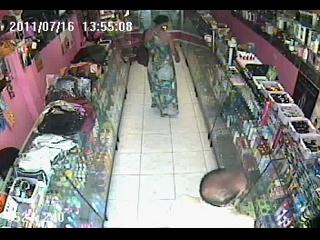Normal: (142, 15, 180, 118)
